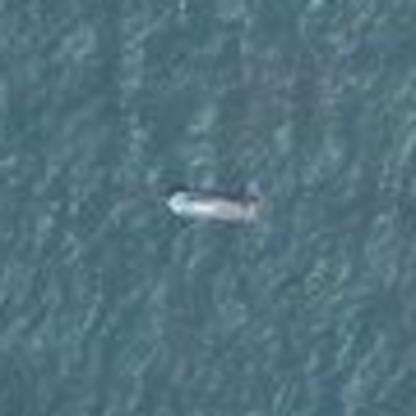ship: (157, 181, 268, 234)
